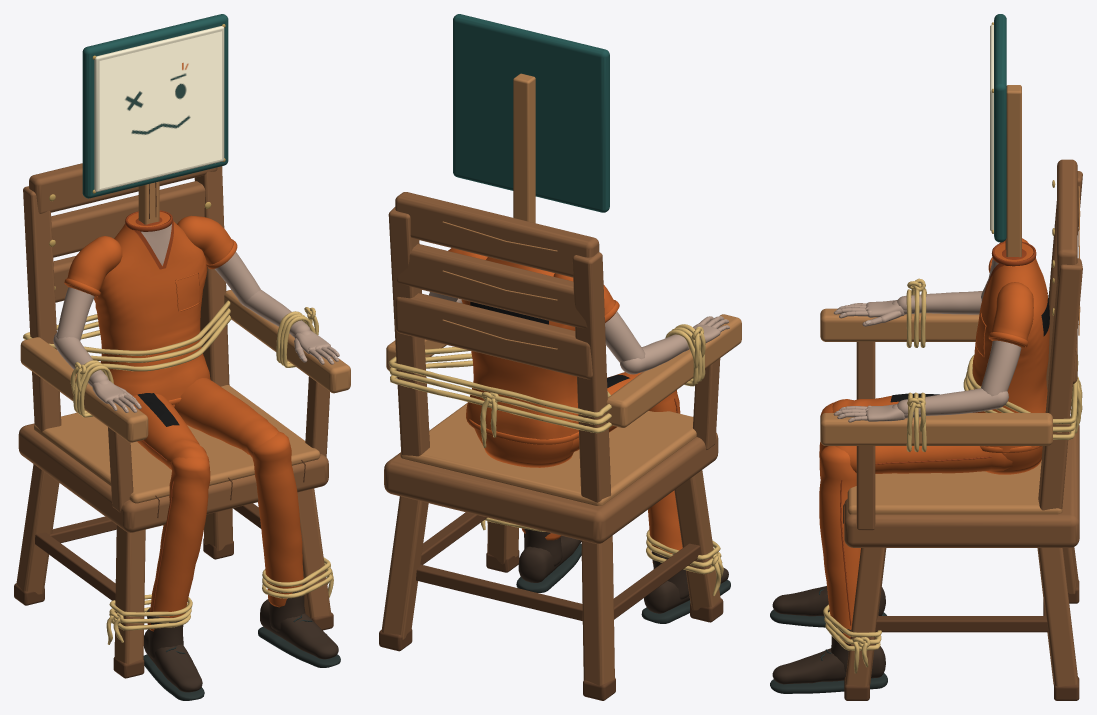
File: chair_character.glb
3 renders of one model, left to right at view 1: azimuth 30°, elevation 25°; view 2: azimuth 150°, elevation 25°; view 3: azimuth 270°, elevation 25°, orthographic. The views are drawn at different scales.
Visible parts, largest first — view 1: Chair, Body, SignImage, Bindings, SignFrame, NeckStick; view 2: Chair, SignFrame, Body, Bindings, NeckStick; view 3: Chair, Body, Bindings, SignFrame, NeckStick.
Part boxes in pixels (left/top/right/bottom): Chair: left=14, top=163, right=350, bottom=678; Body: left=53, top=210, right=340, bottom=700; SignImage: left=99, top=31, right=221, bottom=188; Bindings: left=23, top=300, right=333, bottom=644; SignFrame: left=82, top=14, right=228, bottom=198; NeckStick: left=138, top=181, right=159, bottom=224; Chair: left=379, top=192, right=741, bottom=700; SignFrame: left=453, top=14, right=609, bottom=212; Body: left=429, top=248, right=730, bottom=623; Bindings: left=388, top=324, right=723, bottom=595; NeckStick: left=513, top=73, right=535, bottom=223; Chair: left=820, top=159, right=1082, bottom=700; Body: left=770, top=238, right=1049, bottom=693; Bindings: left=823, top=278, right=1082, bottom=673; SignFrame: left=990, top=14, right=1006, bottom=242; NeckStick: left=1005, top=85, right=1021, bottom=257.
Bounding box in the file's own units: 0.8565 × 1.96 × 0.917.
15 materials, 1 textured.
